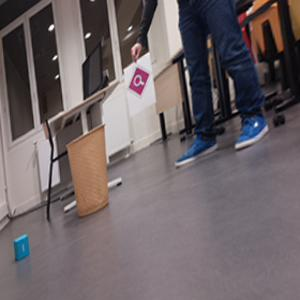search: (127, 67, 152, 97)
